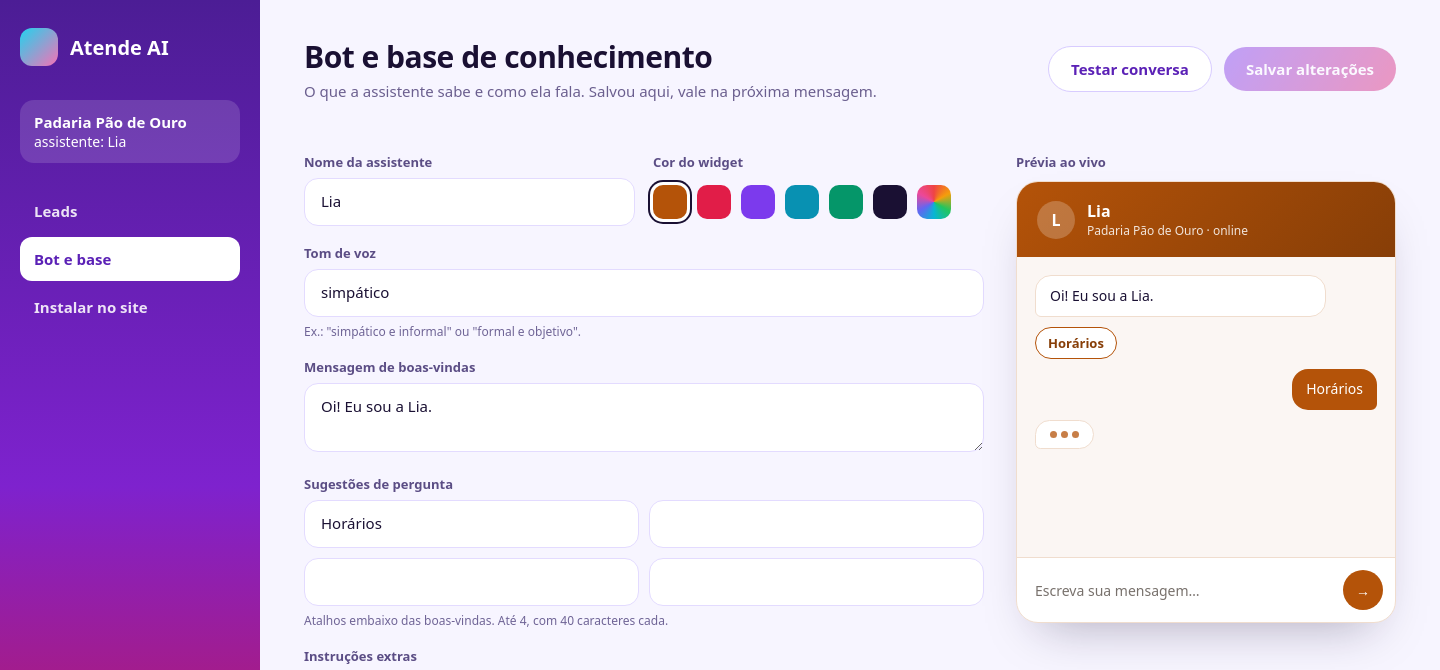
Test: bot e base › mostra o erro de cada campo vindo da API
Clear the text box labelled "Mensagem de boas-vindas". click: (644, 418)
box: left=304, top=383, right=984, bottom=452
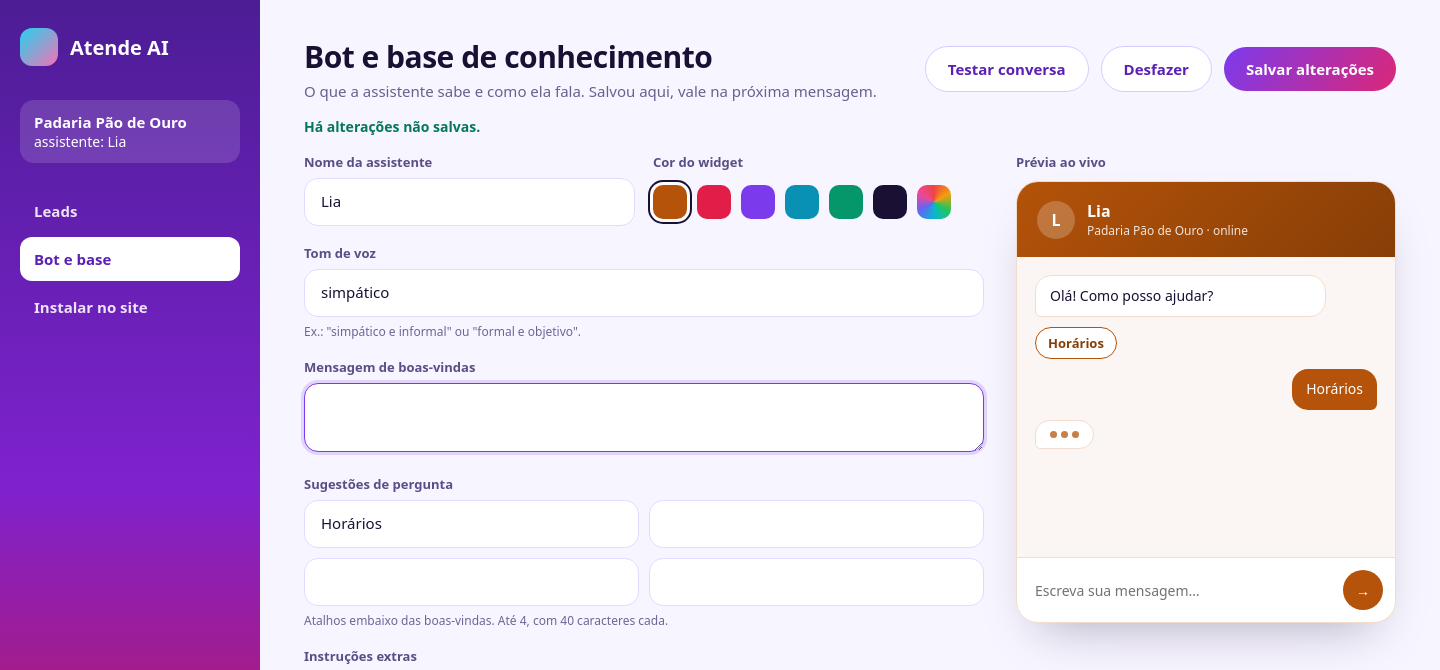
Click the button "Salvar alterações". click: (1310, 68)
box: left=1224, top=46, right=1396, bottom=90
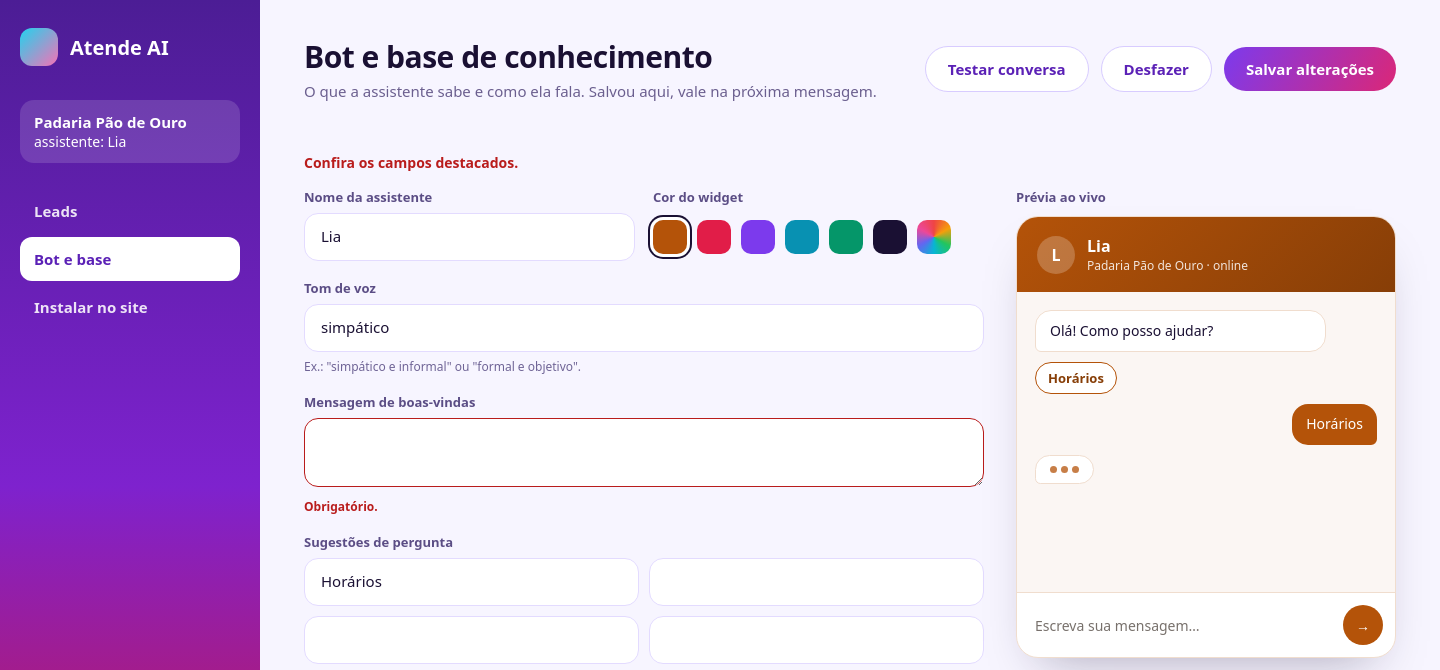
Now the text "Obrigatório." is shown, box left=304, top=498, right=378, bottom=515
Now the message "Confira os campos destacados." is shown, box left=304, top=153, right=518, bottom=172
